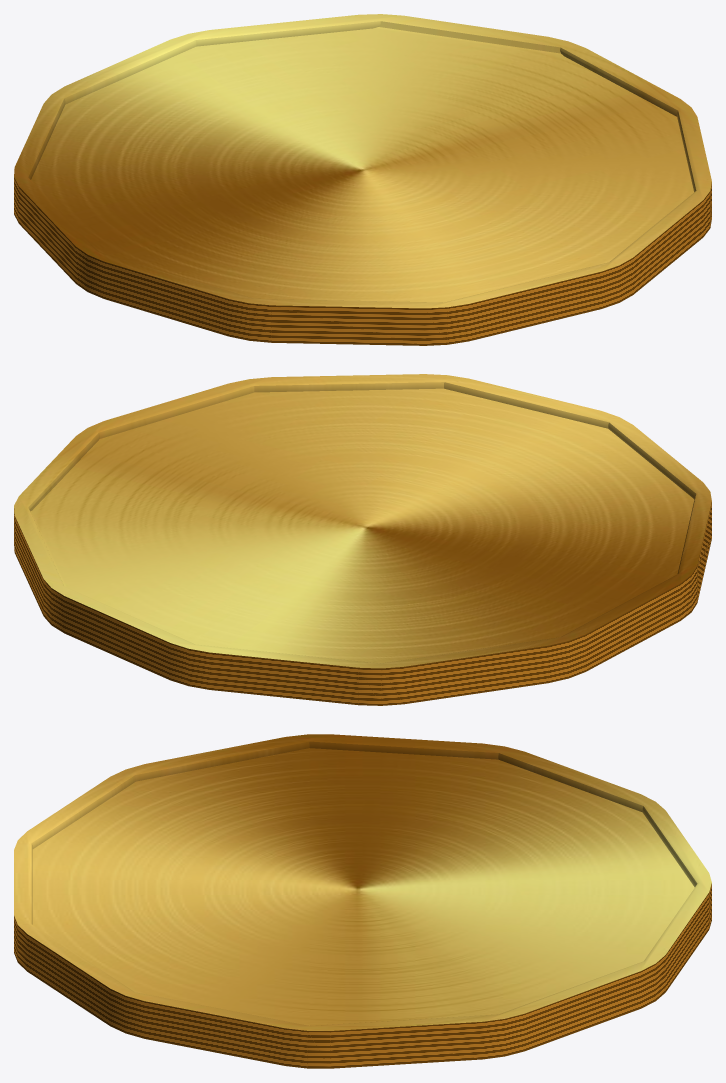
The model's file is coint.fbx.
The picture shows the model from 3 angles, top to bottom: view 1: azimuth 30°, elevation 25°; view 2: azimuth 150°, elevation 25°; view 3: azimuth 270°, elevation 25°; orthographic projection.
Parts seen in each view (by area): view 1: Cylinder; view 2: Cylinder; view 3: Cylinder.
Boxes of the visible parts, left/top/right/bottom form: Cylinder: left=14, top=14, right=711, bottom=345; Cylinder: left=14, top=374, right=711, bottom=705; Cylinder: left=14, top=734, right=711, bottom=1068.
Size of the model in its own units: 196 by 11.6 by 195.
2 materials, 2 textured.
